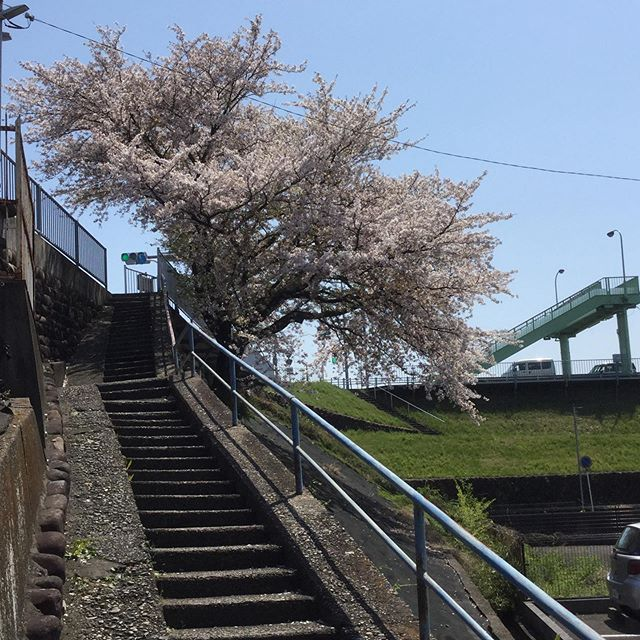sky: (291, 1, 627, 273)
tree: (33, 29, 491, 423)
